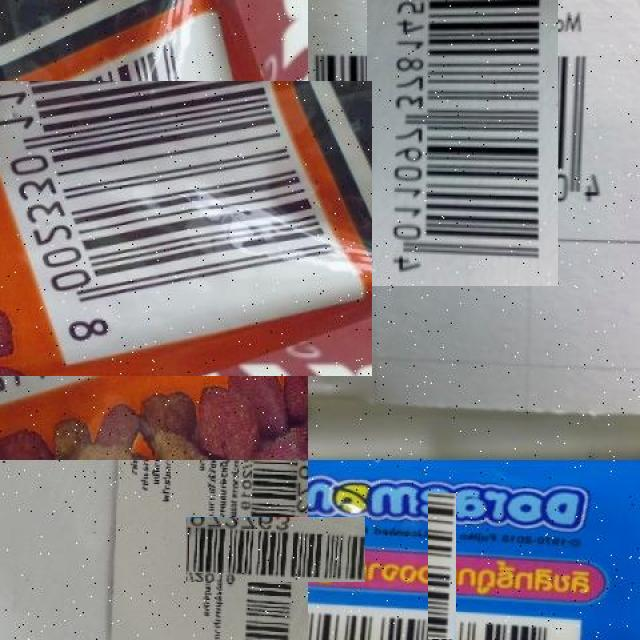Barcode: (0, 42, 334, 414), (337, 8, 587, 257), (214, 489, 337, 611), (368, 552, 516, 640)
